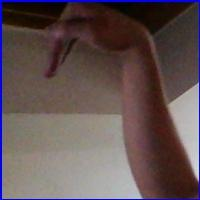del: (40, 2, 148, 85)
